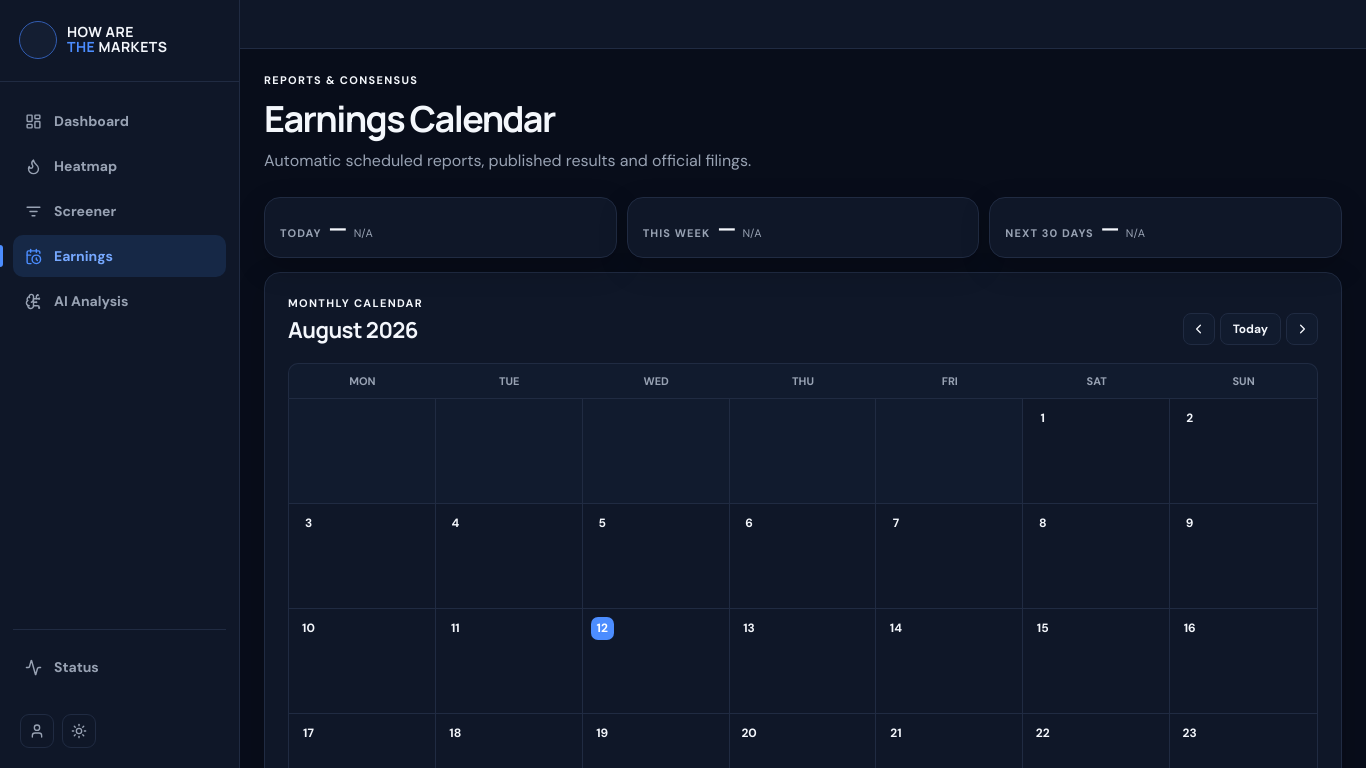
Scenario: Morning Briefing frontend demo › moves the earnings calendar across years and returns to today
The image size is (1366, 768).
Expected: the heading "August 2026" is shown, x1=288 y1=315 x2=423 y2=345
Click the button named "Next month" at (1302,329), box x1=1286 y1=313 x2=1318 y2=345
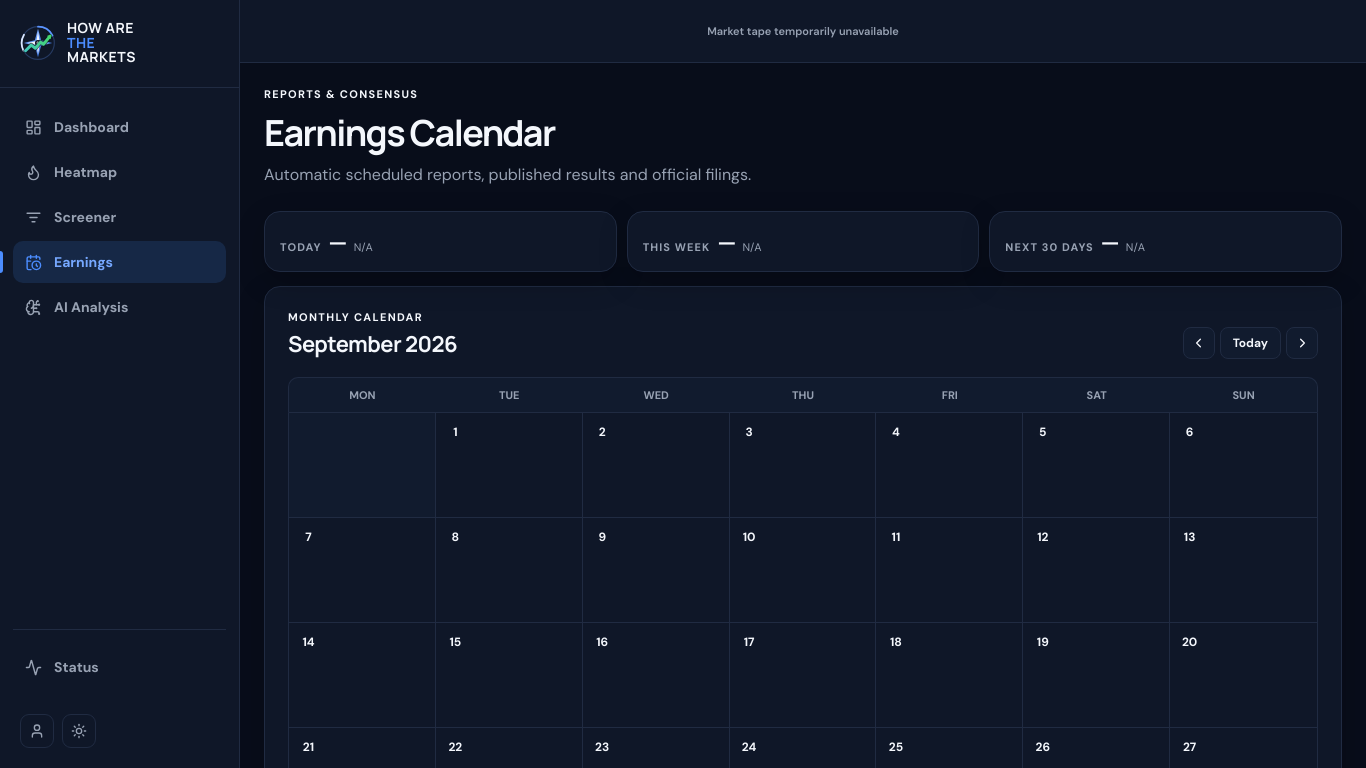
Click the button named "Next month" at (1302,343), box x1=1286 y1=327 x2=1318 y2=359
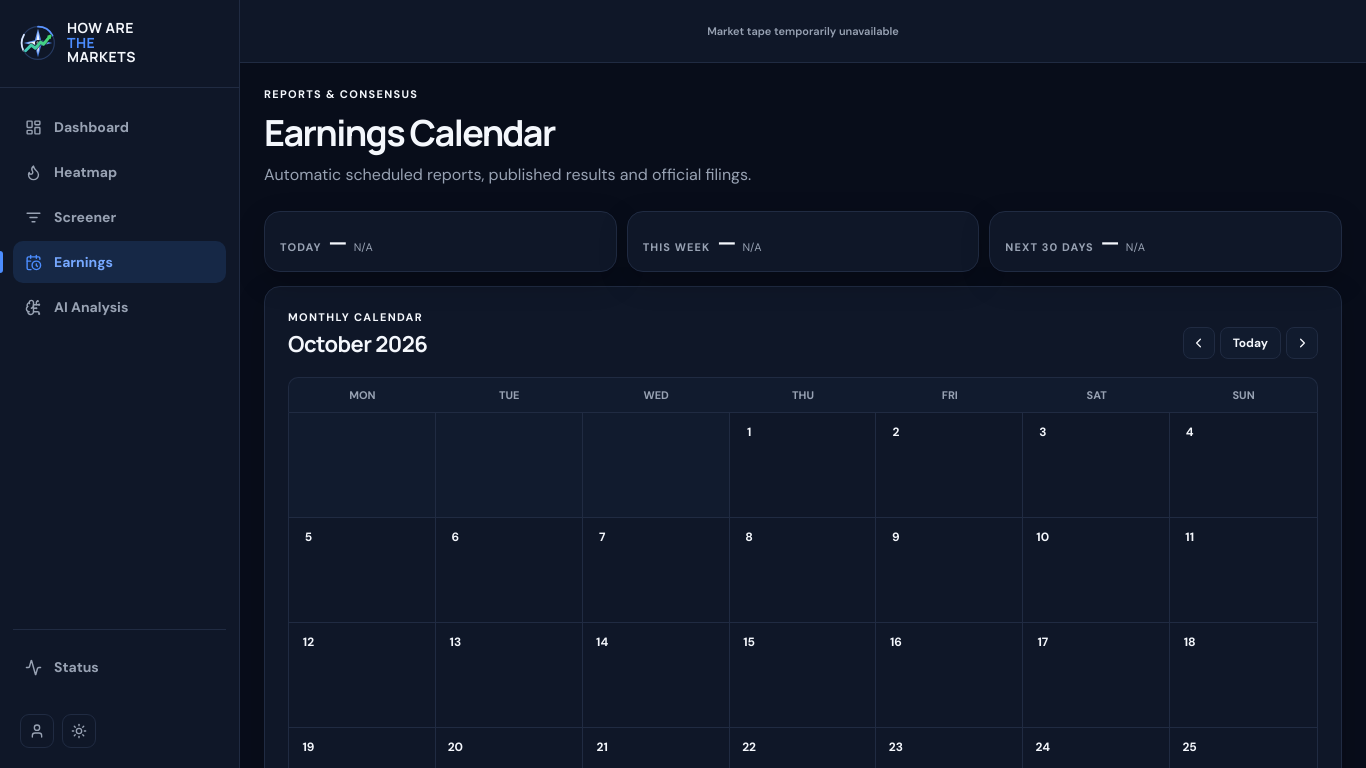
Click the button named "Next month" at (1302,343), box x1=1286 y1=327 x2=1318 y2=359
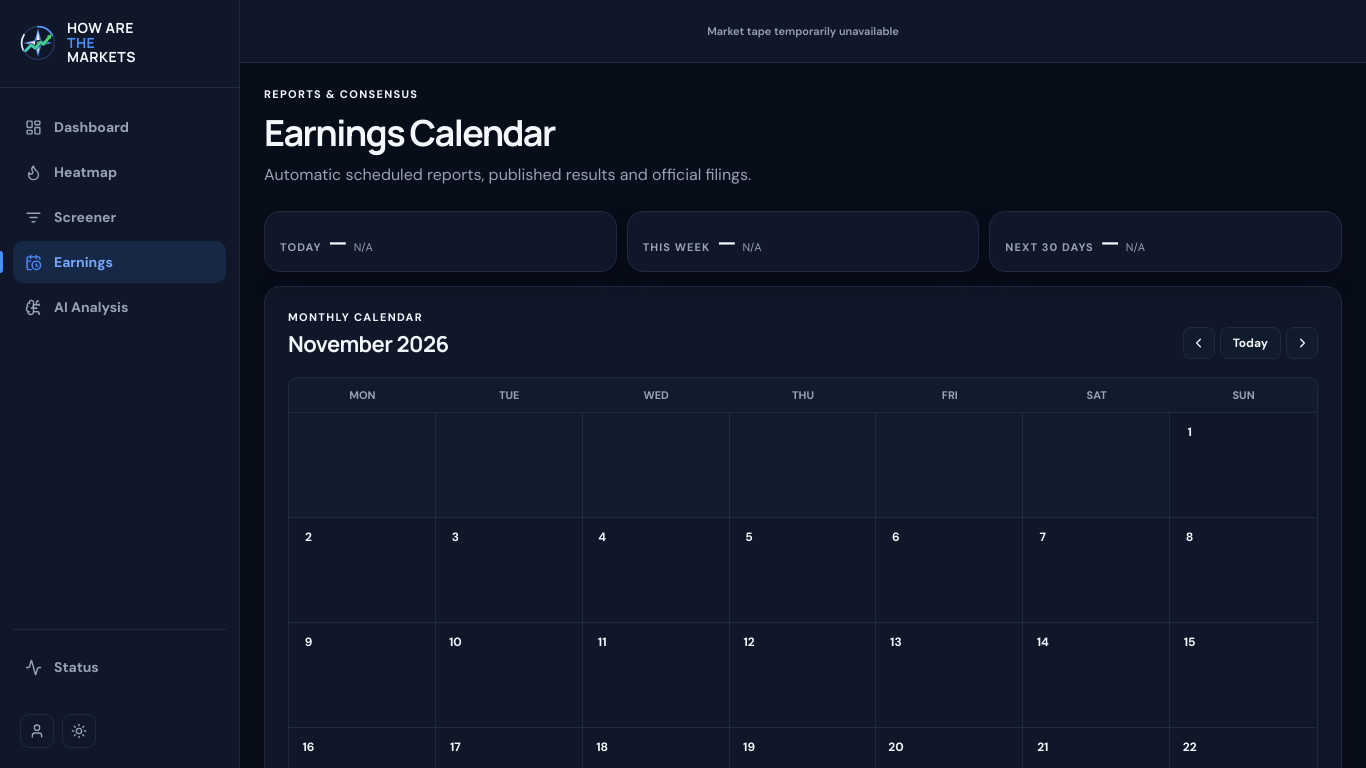
Click the button named "Next month" at (1302,343), box x1=1286 y1=327 x2=1318 y2=359
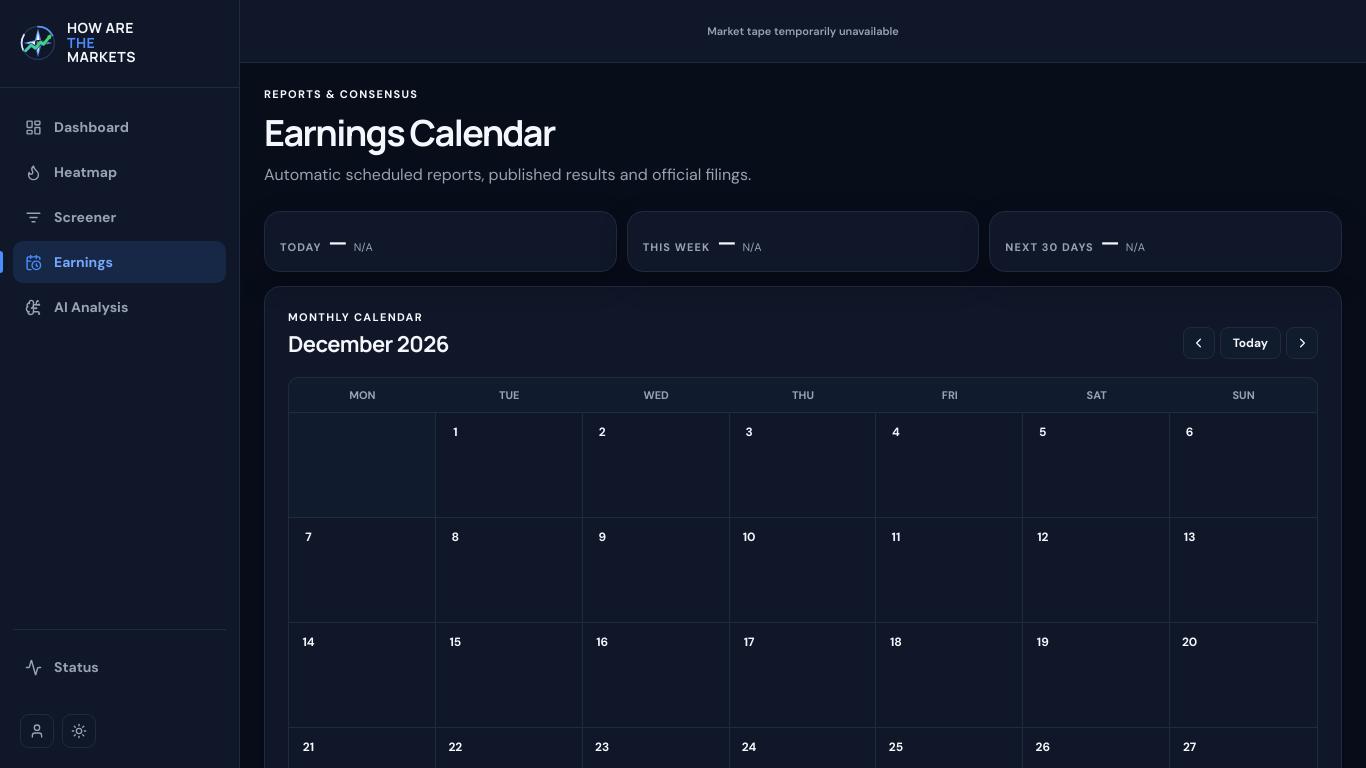
Click the button named "Next month" at (1302,343), box x1=1286 y1=327 x2=1318 y2=359
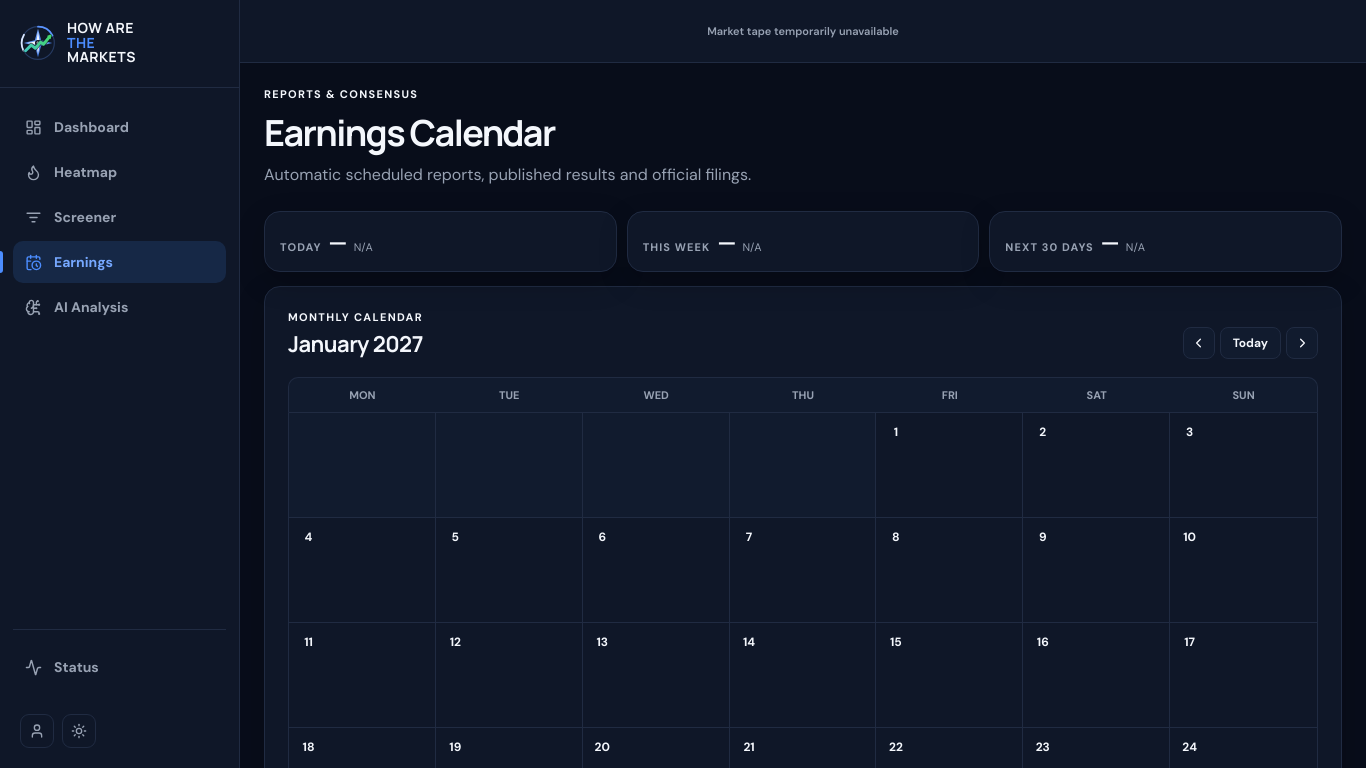
Expected: the heading "January 2027" is shown, x1=288 y1=329 x2=423 y2=359
Click the button "Today" at (1250,343), box x1=1220 y1=327 x2=1281 y2=359
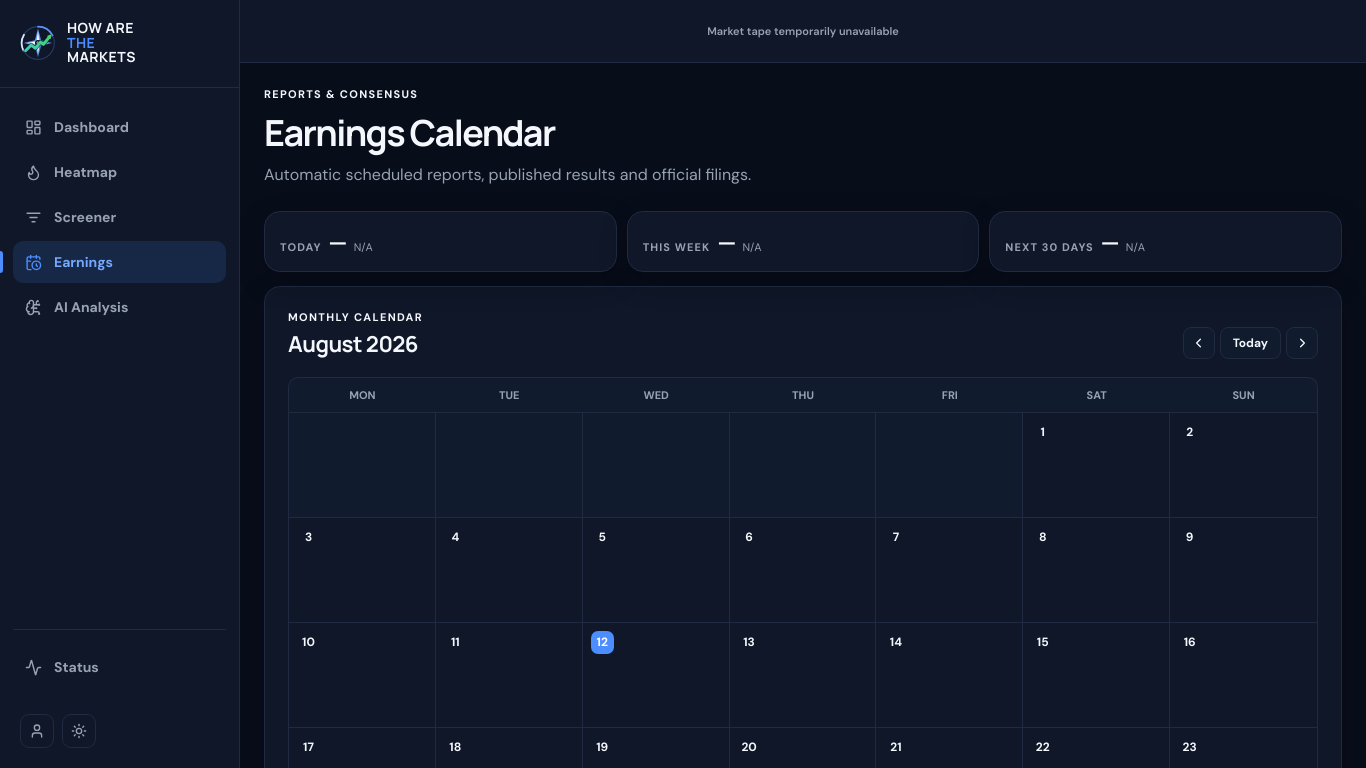
Expected: the heading "August 2026" is shown, x1=288 y1=329 x2=423 y2=359
